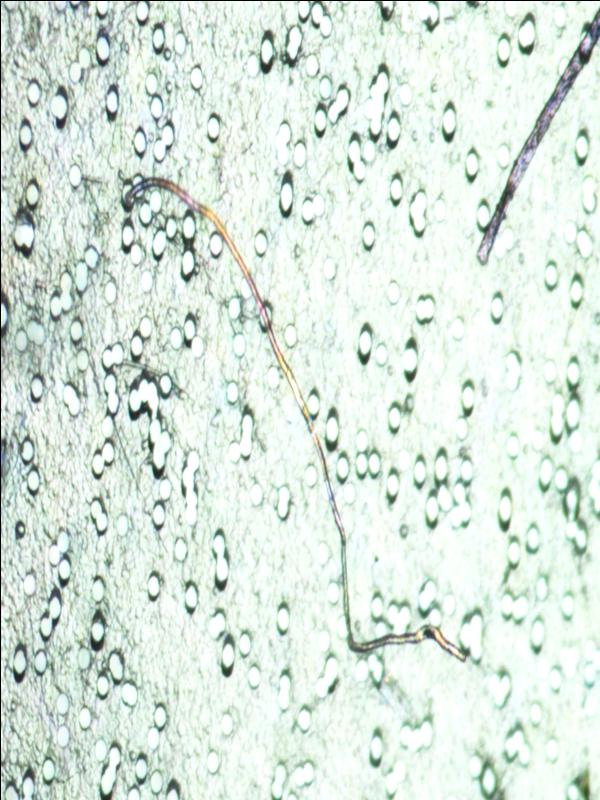microplastic: (1, 2, 599, 799), (118, 169, 470, 668)
